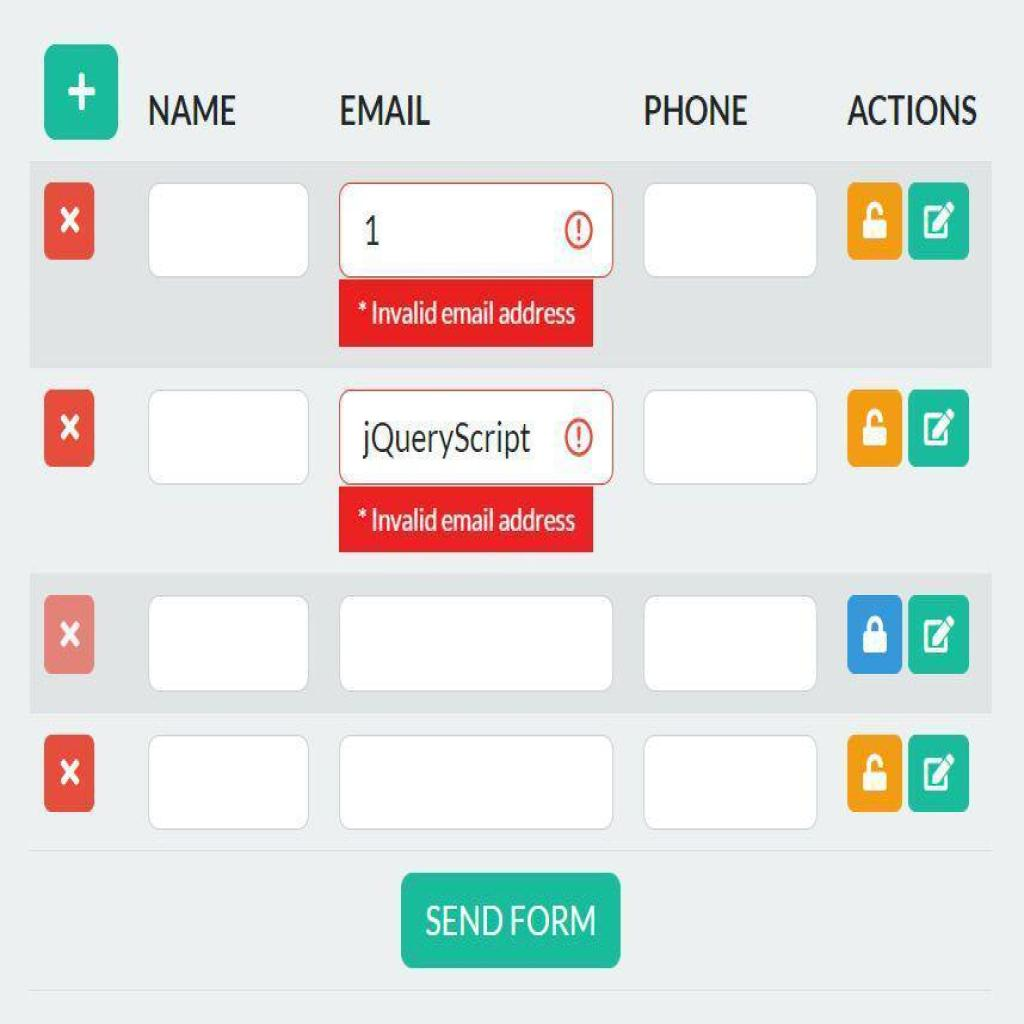button: (402, 875, 621, 968)
icon: (920, 610, 960, 664), (919, 196, 957, 250), (920, 406, 960, 454), (922, 746, 960, 796), (860, 612, 896, 659), (62, 69, 96, 117), (859, 404, 894, 449), (54, 197, 86, 245), (862, 746, 892, 796), (56, 610, 85, 659), (861, 194, 889, 242), (56, 404, 84, 449), (57, 750, 84, 796)
input: (338, 732, 614, 834), (337, 595, 612, 695), (339, 390, 613, 488), (340, 184, 615, 280), (640, 594, 821, 696), (641, 732, 821, 834), (640, 388, 820, 488), (641, 181, 819, 279), (147, 179, 310, 281), (144, 731, 310, 830), (146, 592, 310, 692), (147, 386, 311, 485)
label: (846, 89, 979, 131), (643, 85, 753, 130), (333, 89, 433, 130), (146, 92, 241, 130)
